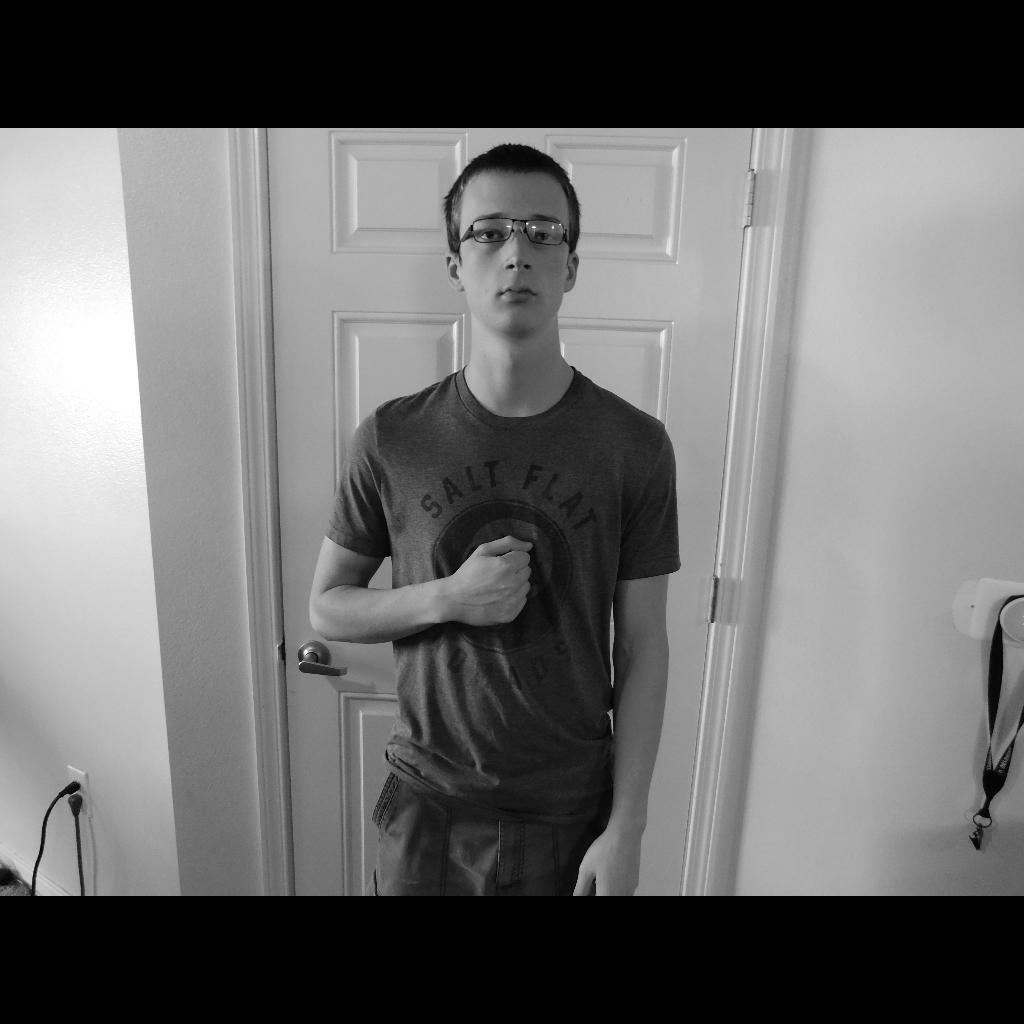sorry: (454, 536, 534, 626)
